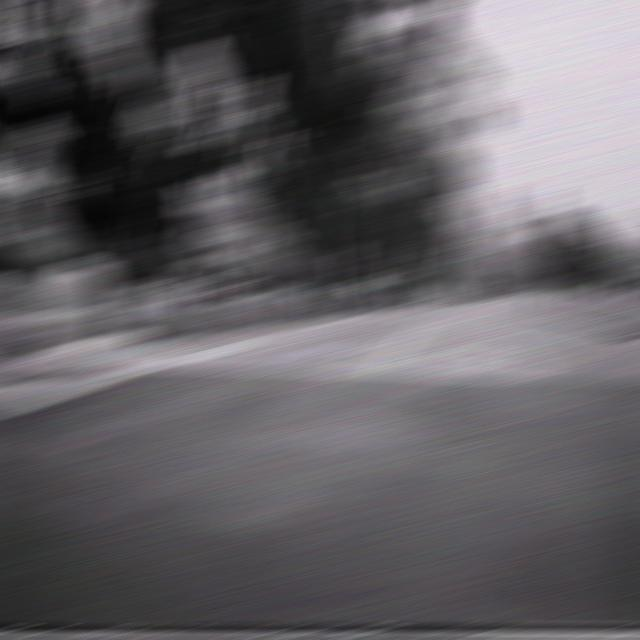speedLimit30: (595, 212, 625, 240)
